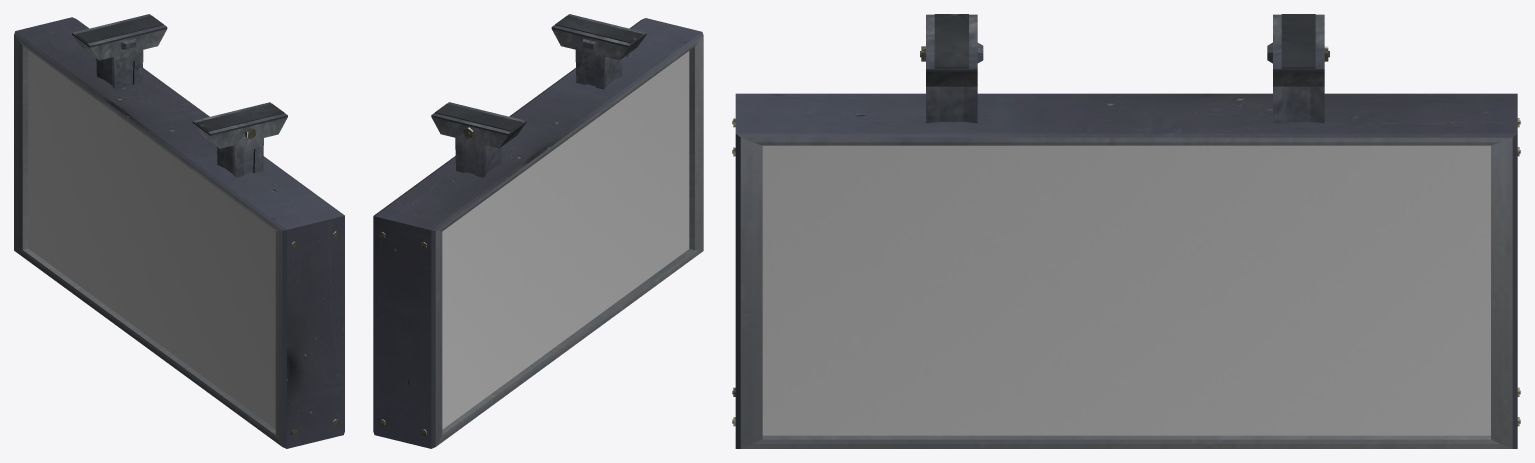
File: theatresignhang.fbx
3 views of the same model, side by side, from view 1: azimuth 30°, elevation 25°; view 2: azimuth 150°, elevation 25°; view 3: azimuth 270°, elevation 25° (orthographic). The views are drawn at different scales.
Visible parts, largest first — view 1: theatresign; view 2: theatresign; view 3: theatresign.
Boxes of the visible parts, x1,y1,x2,y2 form: theatresign: (14,14,344,448); theatresign: (373,14,703,448); theatresign: (732,14,1520,448).
Size of the model in its own units: 44.29 by 147 by 271.
